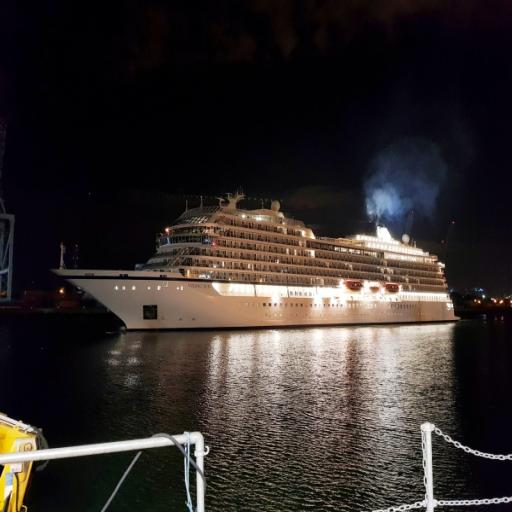cruises: (50, 190, 464, 339)
